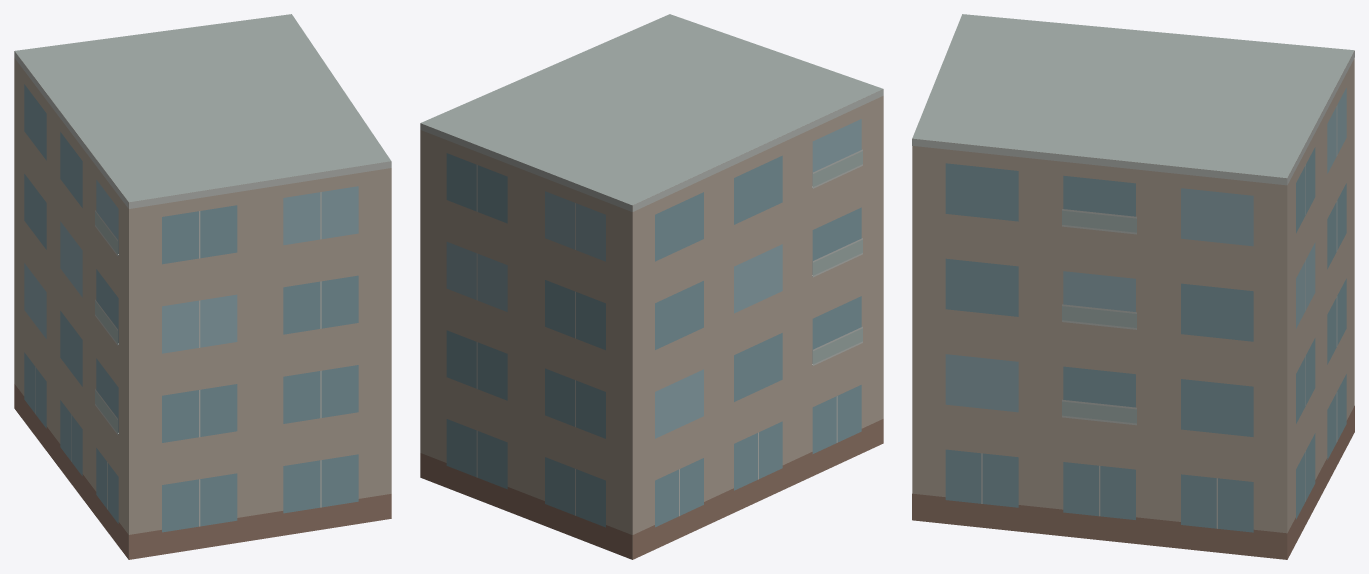
Rendered from survey-upis-32849804.glb.
3 renders of one model, left to right at view 1: azimuth 30°, elevation 25°; view 2: azimuth 150°, elevation 25°; view 3: azimuth 270°, elevation 25°, orthographic. The views are drawn at different scales.
Parts seen in each view (by area): view 1: survey-upis-32849804.tmp; view 2: survey-upis-32849804.tmp; view 3: survey-upis-32849804.tmp.
Boxes of the visible parts, bbox=[...] form: survey-upis-32849804.tmp: bbox=[14, 14, 391, 559]; survey-upis-32849804.tmp: bbox=[420, 14, 883, 559]; survey-upis-32849804.tmp: bbox=[912, 14, 1354, 559].
Bounding box in the file's own units: 11.91 × 12.9 × 13.57.
